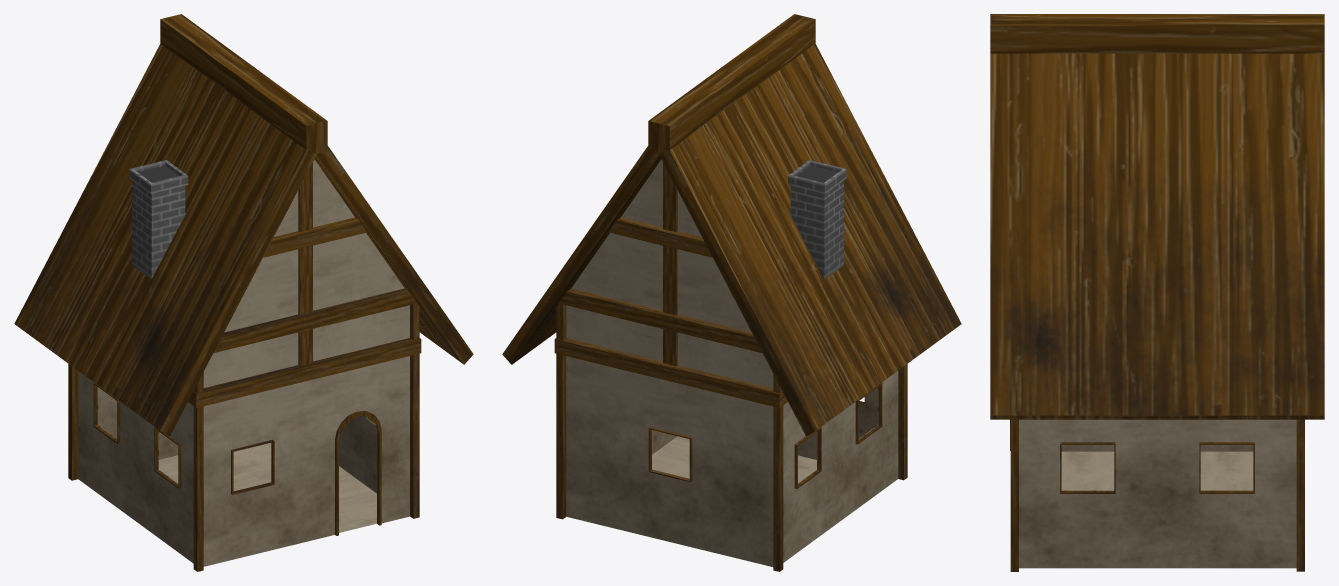
Rendered from house_1_2.fbx.
3 views of the same model, side by side, from view 1: azimuth 30°, elevation 25°; view 2: azimuth 150°, elevation 25°; view 3: azimuth 270°, elevation 25° (orthographic). The views are drawn at different scales.
Visible parts, largest first — view 1: house1; view 2: house1; view 3: house1.
Boxes of the visible parts, <box> form: house1: <box>14,14,473,571</box>; house1: <box>502,14,961,571</box>; house1: <box>990,14,1324,571</box>.
Size of the model in its own units: 2.78 by 3.62 by 2.24.
1 material, 1 textured.
